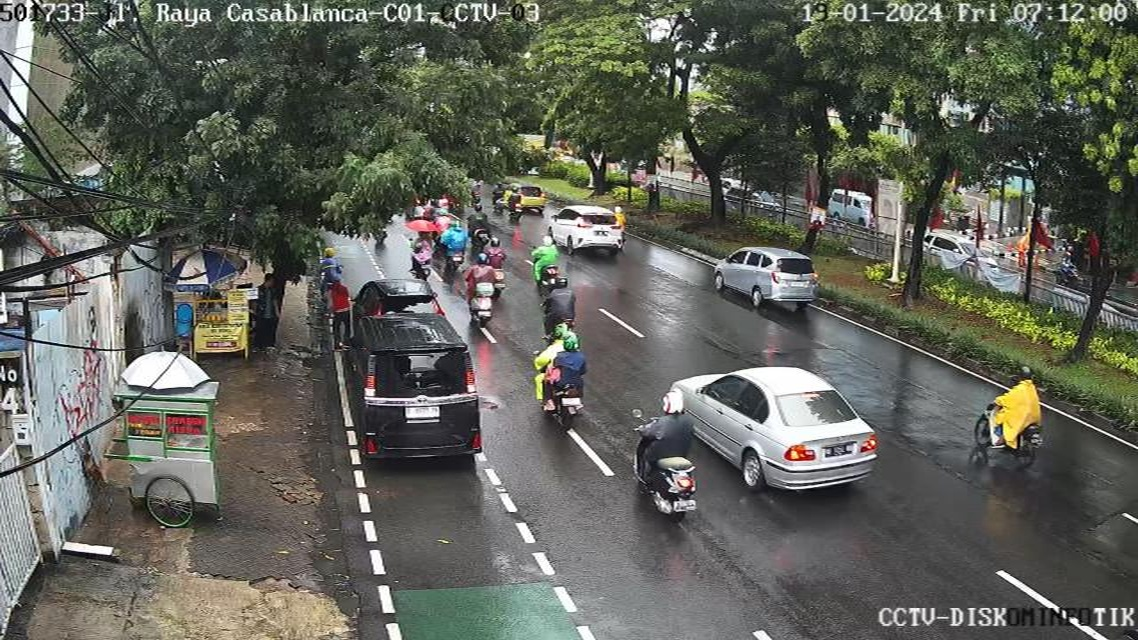Gerobak: (114, 385, 231, 527), (181, 287, 267, 364)
